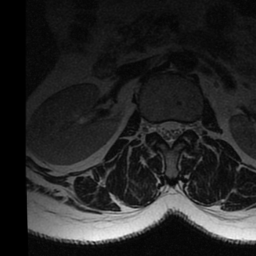CCS_normal: (165, 114, 173, 154)
LFS_stenosis: (183, 116, 192, 139)
LLS_normal: (173, 116, 182, 144)
RFS_normal: (146, 115, 156, 140)
RLS_normal: (156, 116, 165, 144)
